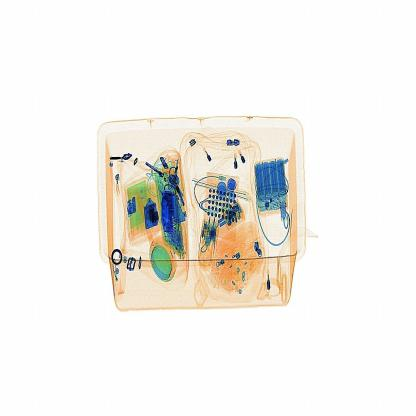scissors: (158, 185, 188, 242)
